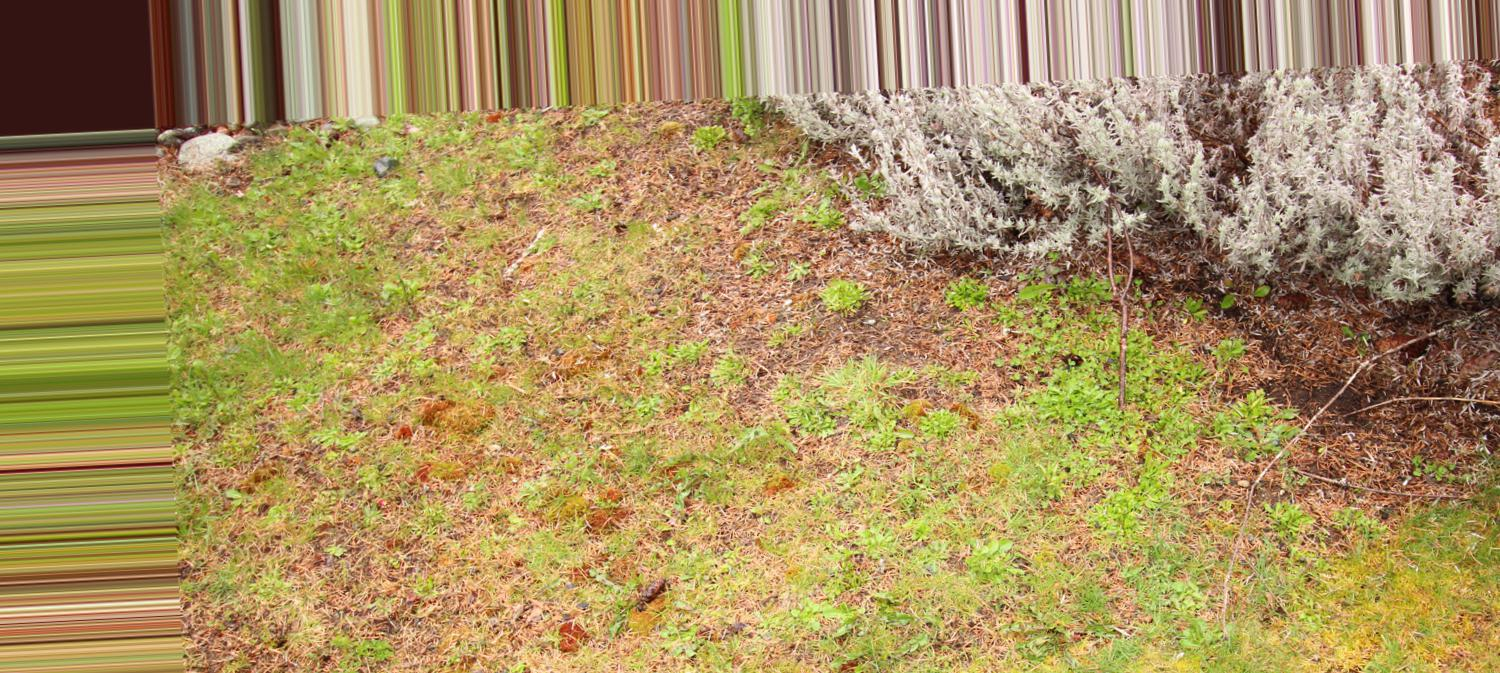patch: (378, 322, 665, 579), (580, 146, 818, 351), (722, 421, 850, 571)
